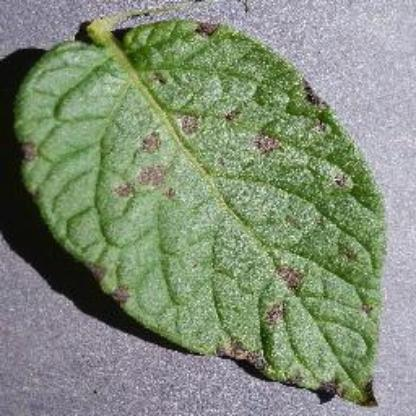Early-Blight: (15, 14, 384, 406)
